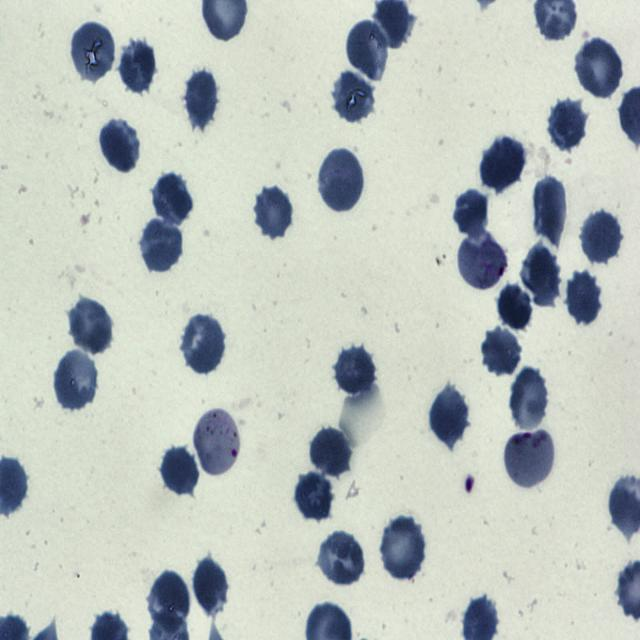red blood cell: (318, 148, 366, 214), (575, 36, 624, 100), (380, 516, 427, 582), (70, 20, 116, 84), (53, 349, 99, 411), (181, 314, 227, 374), (509, 365, 550, 432), (318, 530, 367, 586), (148, 570, 191, 632), (346, 20, 389, 79), (69, 297, 113, 354), (331, 67, 375, 124), (522, 244, 562, 305), (482, 136, 526, 191), (429, 385, 469, 444), (534, 174, 568, 243), (192, 556, 230, 617), (182, 68, 220, 129), (98, 118, 140, 173), (152, 172, 193, 226), (118, 39, 158, 94), (140, 220, 183, 271), (334, 345, 376, 397), (254, 185, 294, 239), (582, 208, 622, 262), (310, 427, 352, 478), (566, 269, 602, 325), (482, 328, 523, 377), (547, 100, 587, 150), (295, 472, 334, 521), (161, 448, 199, 497), (453, 188, 490, 238), (496, 283, 533, 332)
ring: (192, 406, 240, 478), (503, 428, 556, 488), (457, 234, 508, 291)
